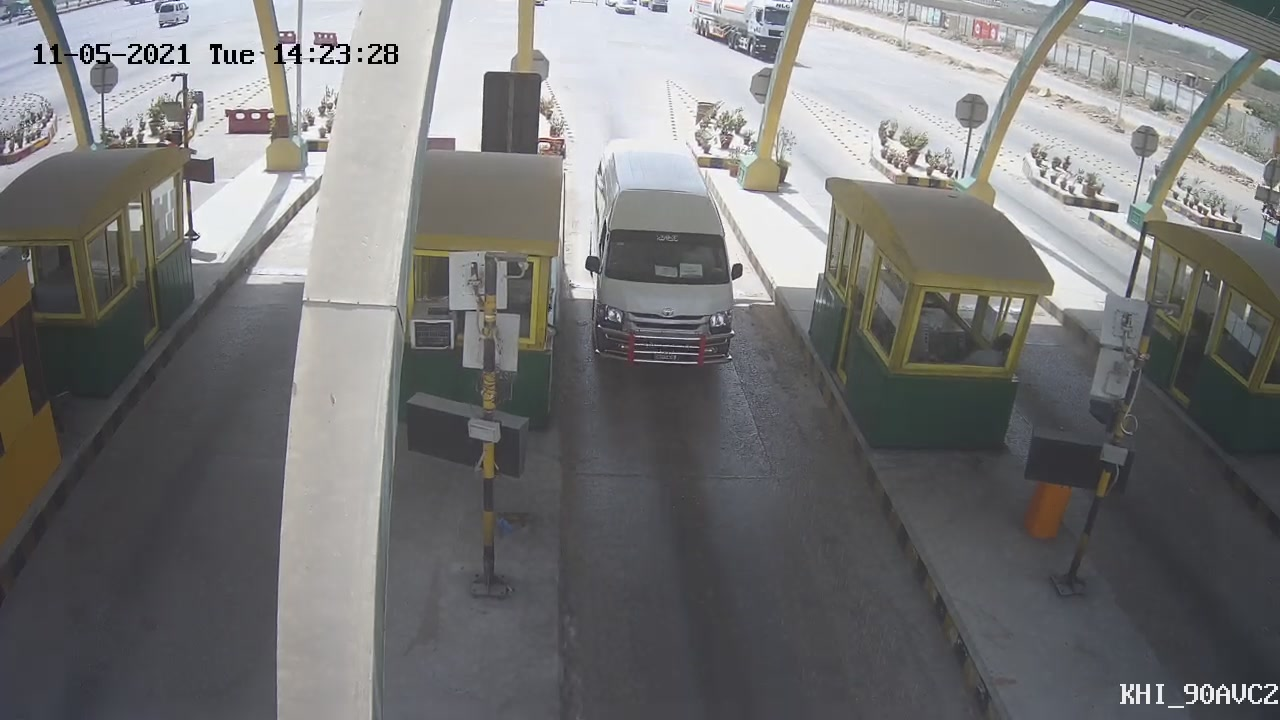F2: (585, 129, 743, 380)
